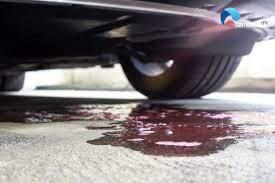water accumulation: (0, 104, 243, 155)
